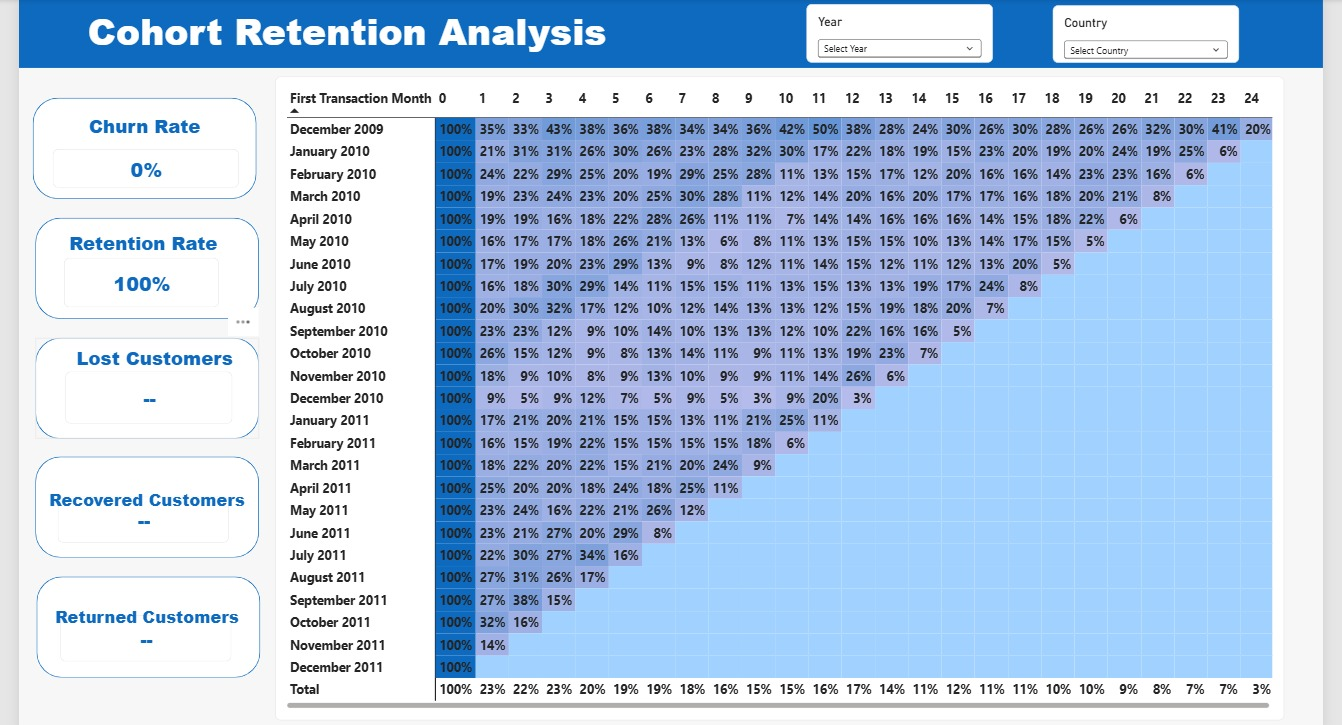

This screenshot's page, from the dashboard's own definition file:
{"tool":"powerbi","page":{"name":"Cohort Details","canvas":[1920,1080],"ordinal":1},"visuals":[{"type":"shape","box":[0,0,1919.6,101.2],"z":0},{"type":"textbox","box":[16.6,9.2,933.1,77.3],"z":1000},{"type":"shape","box":[21,144.7,329.4,149.1],"z":4000},{"type":"cardVisual","fields":{"Data":["_measures.Month 1 Churn %"]},"box":[50.4,220.1,274.2,57.1],"z":5000},{"type":"pivotTable","fields":{"Columns":["FactSales.Month Since First Transaction"],"Rows":["DimCustomer.First Transaction Month"],"Values":["_measures.Retention Rate"]},"box":[377.3,114.1,1485.3,947.9],"z":6000},{"type":"textbox","box":[54.1,166.7,263.2,40.5],"z":7000},{"type":"shape","box":[24.3,322.8,329.4,149.1],"z":8000},{"type":"cardVisual","fields":{"Data":["_measures.Month 1 Retention %"]},"box":[66.6,381.7,228.2,73.6],"z":9000},{"type":"textbox","box":[51.9,341.2,263.2,40.5],"z":10000},{"type":"shape","box":[24.3,499.5,329.4,149.1],"z":11000},{"type":"cardVisual","fields":{"Data":["_measures.Lost Customers"]},"box":[68.5,549.2,246.6,77.3],"z":12000},{"type":"shape","box":[24.3,674.4,329.4,149.1],"z":12001},{"type":"cardVisual","fields":{"Data":["_measures.Recovered Customers"]},"box":[57.4,733.3,252.1,68.1],"z":12002},{"type":"shape","box":[26.5,849.6,329.4,149.1],"z":12003},{"type":"cardVisual","fields":{"Data":["_measures.Returning Customers"]},"box":[62.6,923.9,252.1,68.1],"z":12004},{"type":"textbox","box":[68.8,509.1,263.2,40.5],"z":12005},{"type":"textbox","box":[7.4,719.6,362.6,40.5],"z":12006},{"type":"textbox","box":[7.4,883.4,362.6,40.5],"z":12007},{"type":"listSlicer","fields":{"Values":["DimDate.Date.Variation.Date Hierarchy.Year"]},"box":[1160.3,6.6,274.2,86.5],"z":12008},{"type":"listSlicer","fields":{"Values":["FactSales.Country"]},"box":[1522.1,9.2,274.2,84.7],"z":12009}]}

Visuals, with their boxes on the page's 1920x1080 design canvas (x1, y1, x2, y2). These are canvas units, not pixel positions in the 1342x725 screenshot, which may show the page scaled, cropped or inside an application window:
shape: 0/0/1920/101
textbox: 17/9/950/86
shape: 21/145/350/294
cardVisual - _measures.Month 1 Churn %: 50/220/325/277
pivotTable - FactSales.Month Since First Transaction x DimCustomer.First Transaction Month: 377/114/1863/1062
textbox: 54/167/317/207
shape: 24/323/354/472
cardVisual - _measures.Month 1 Retention %: 67/382/295/455
textbox: 52/341/315/382
shape: 24/500/354/649
cardVisual - _measures.Lost Customers: 68/549/315/626
shape: 24/674/354/824
cardVisual - _measures.Recovered Customers: 57/733/310/801
shape: 26/850/356/999
cardVisual - _measures.Returning Customers: 63/924/315/992
textbox: 69/509/332/550
textbox: 7/720/370/760
textbox: 7/883/370/924
listSlicer - DimDate.Date.Variation.Date Hierarchy.Year: 1160/7/1434/93
listSlicer - FactSales.Country: 1522/9/1796/94
